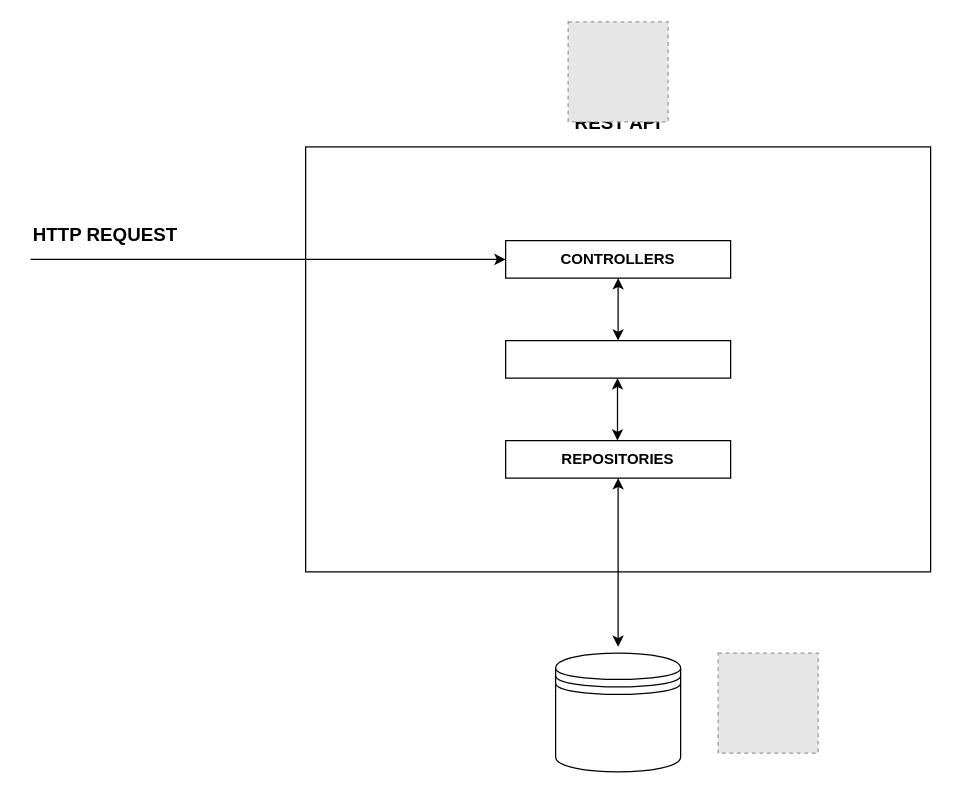
This 953x794 diagram has some shape labels left out. Grey dashed boxes stand in for pictures. The centre of each missing label's shape, as x and y in pixels:
DB: pixel 617 712
SERVICES: pixel 617 358
